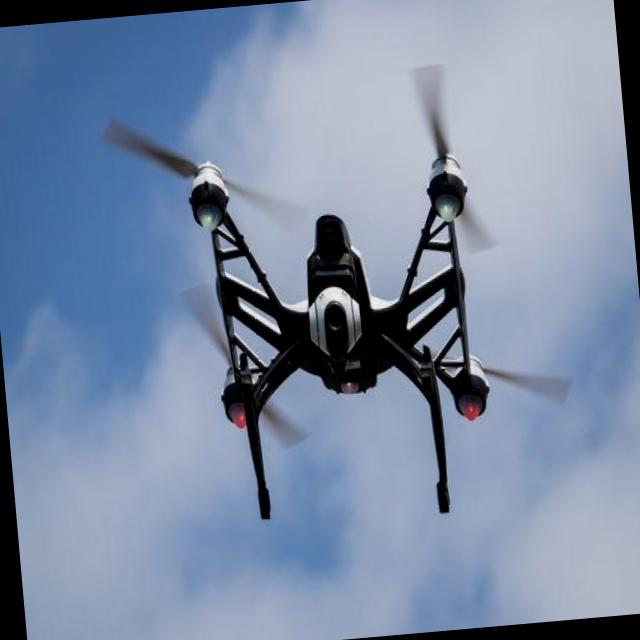drone: (184, 134, 502, 536)
